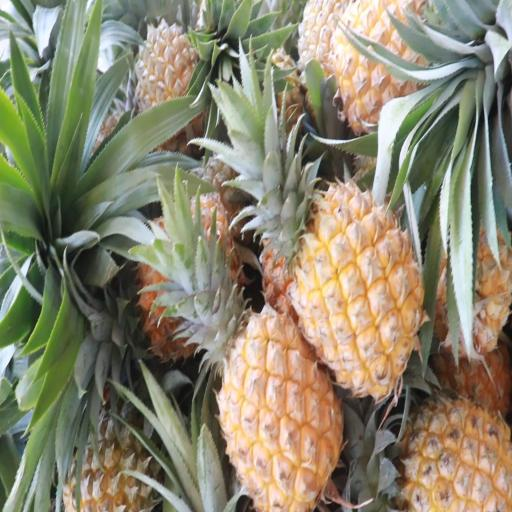Pineapple - v8 v1: (276, 172, 428, 387), (212, 291, 346, 512), (386, 350, 512, 512)
